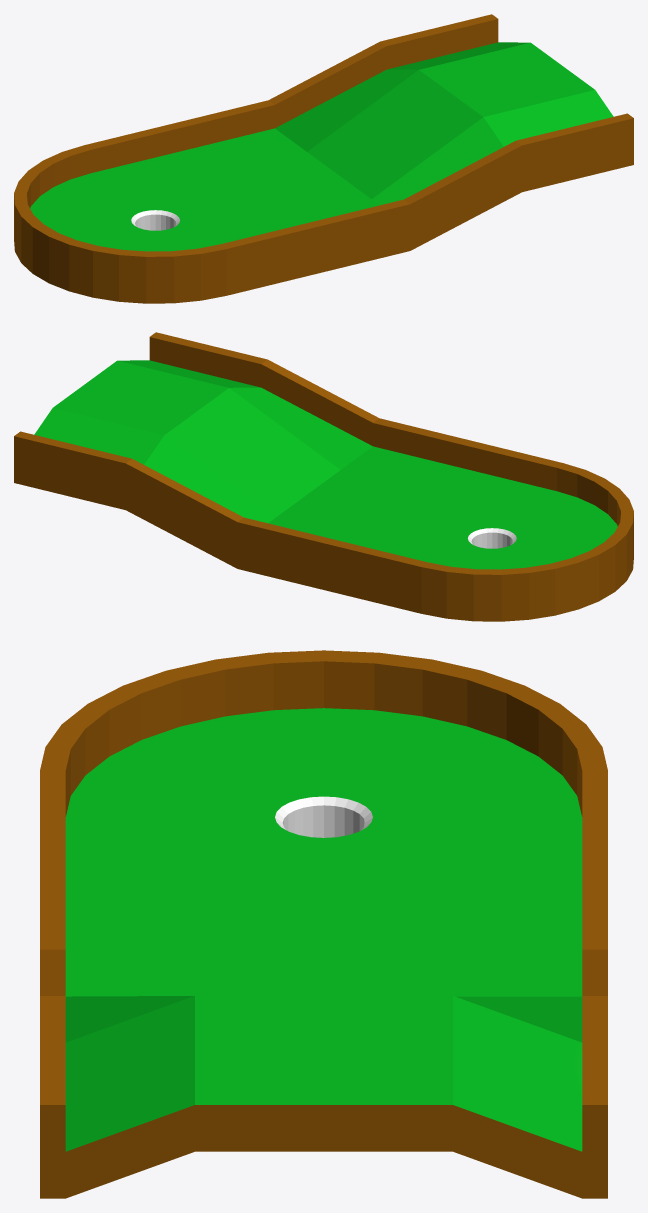
File: track_test_3_p2.fbx
The picture shows the model from 3 angles, top to bottom: view 1: azimuth 30°, elevation 25°; view 2: azimuth 150°, elevation 25°; view 3: azimuth 270°, elevation 25°; orthographic projection. The views are drawn at different scales.
Parts seen in each view (by area): view 1: Plane.001; view 2: Plane.001; view 3: Plane.001.
Part boxes in pixels (<box>): Plane.001: <box>14,14,633,303</box>; Plane.001: <box>14,332,633,621</box>; Plane.001: <box>40,650,607,1198</box>.
Bounding box in the file's own units: 237 × 33.46 × 110.
